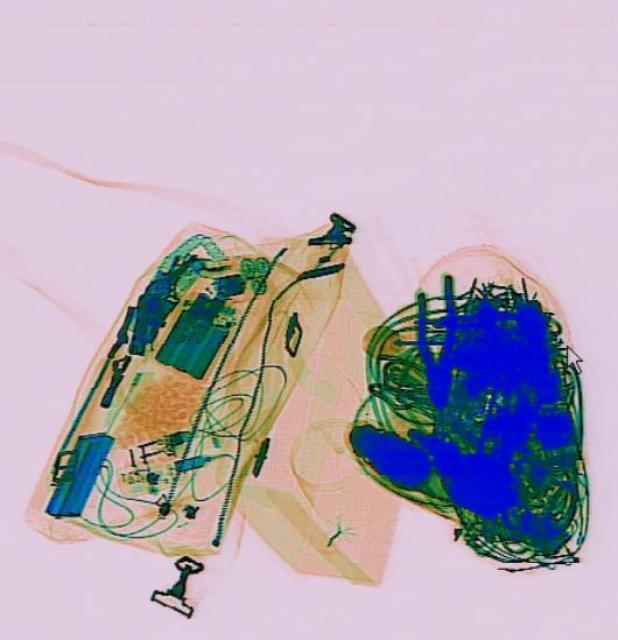Pliers: (410, 272, 460, 410)
